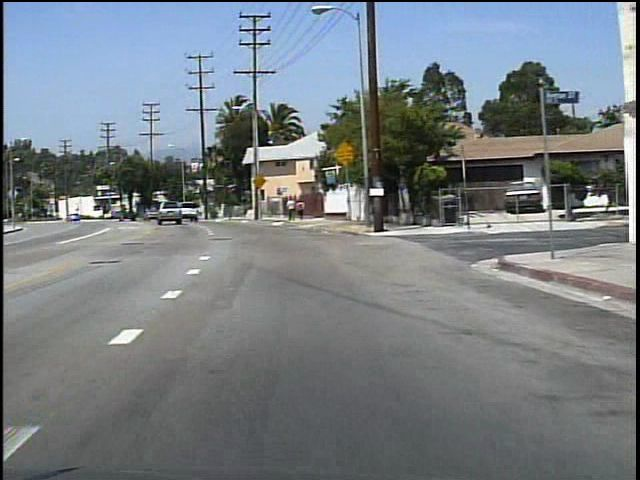person: (286, 196, 297, 222), (295, 198, 306, 222)
